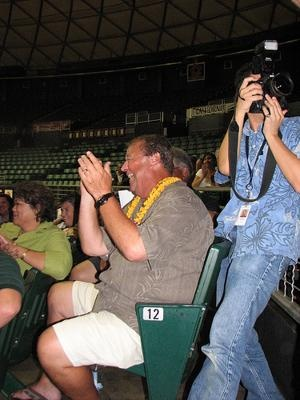person without safety: (105, 124, 208, 296)
